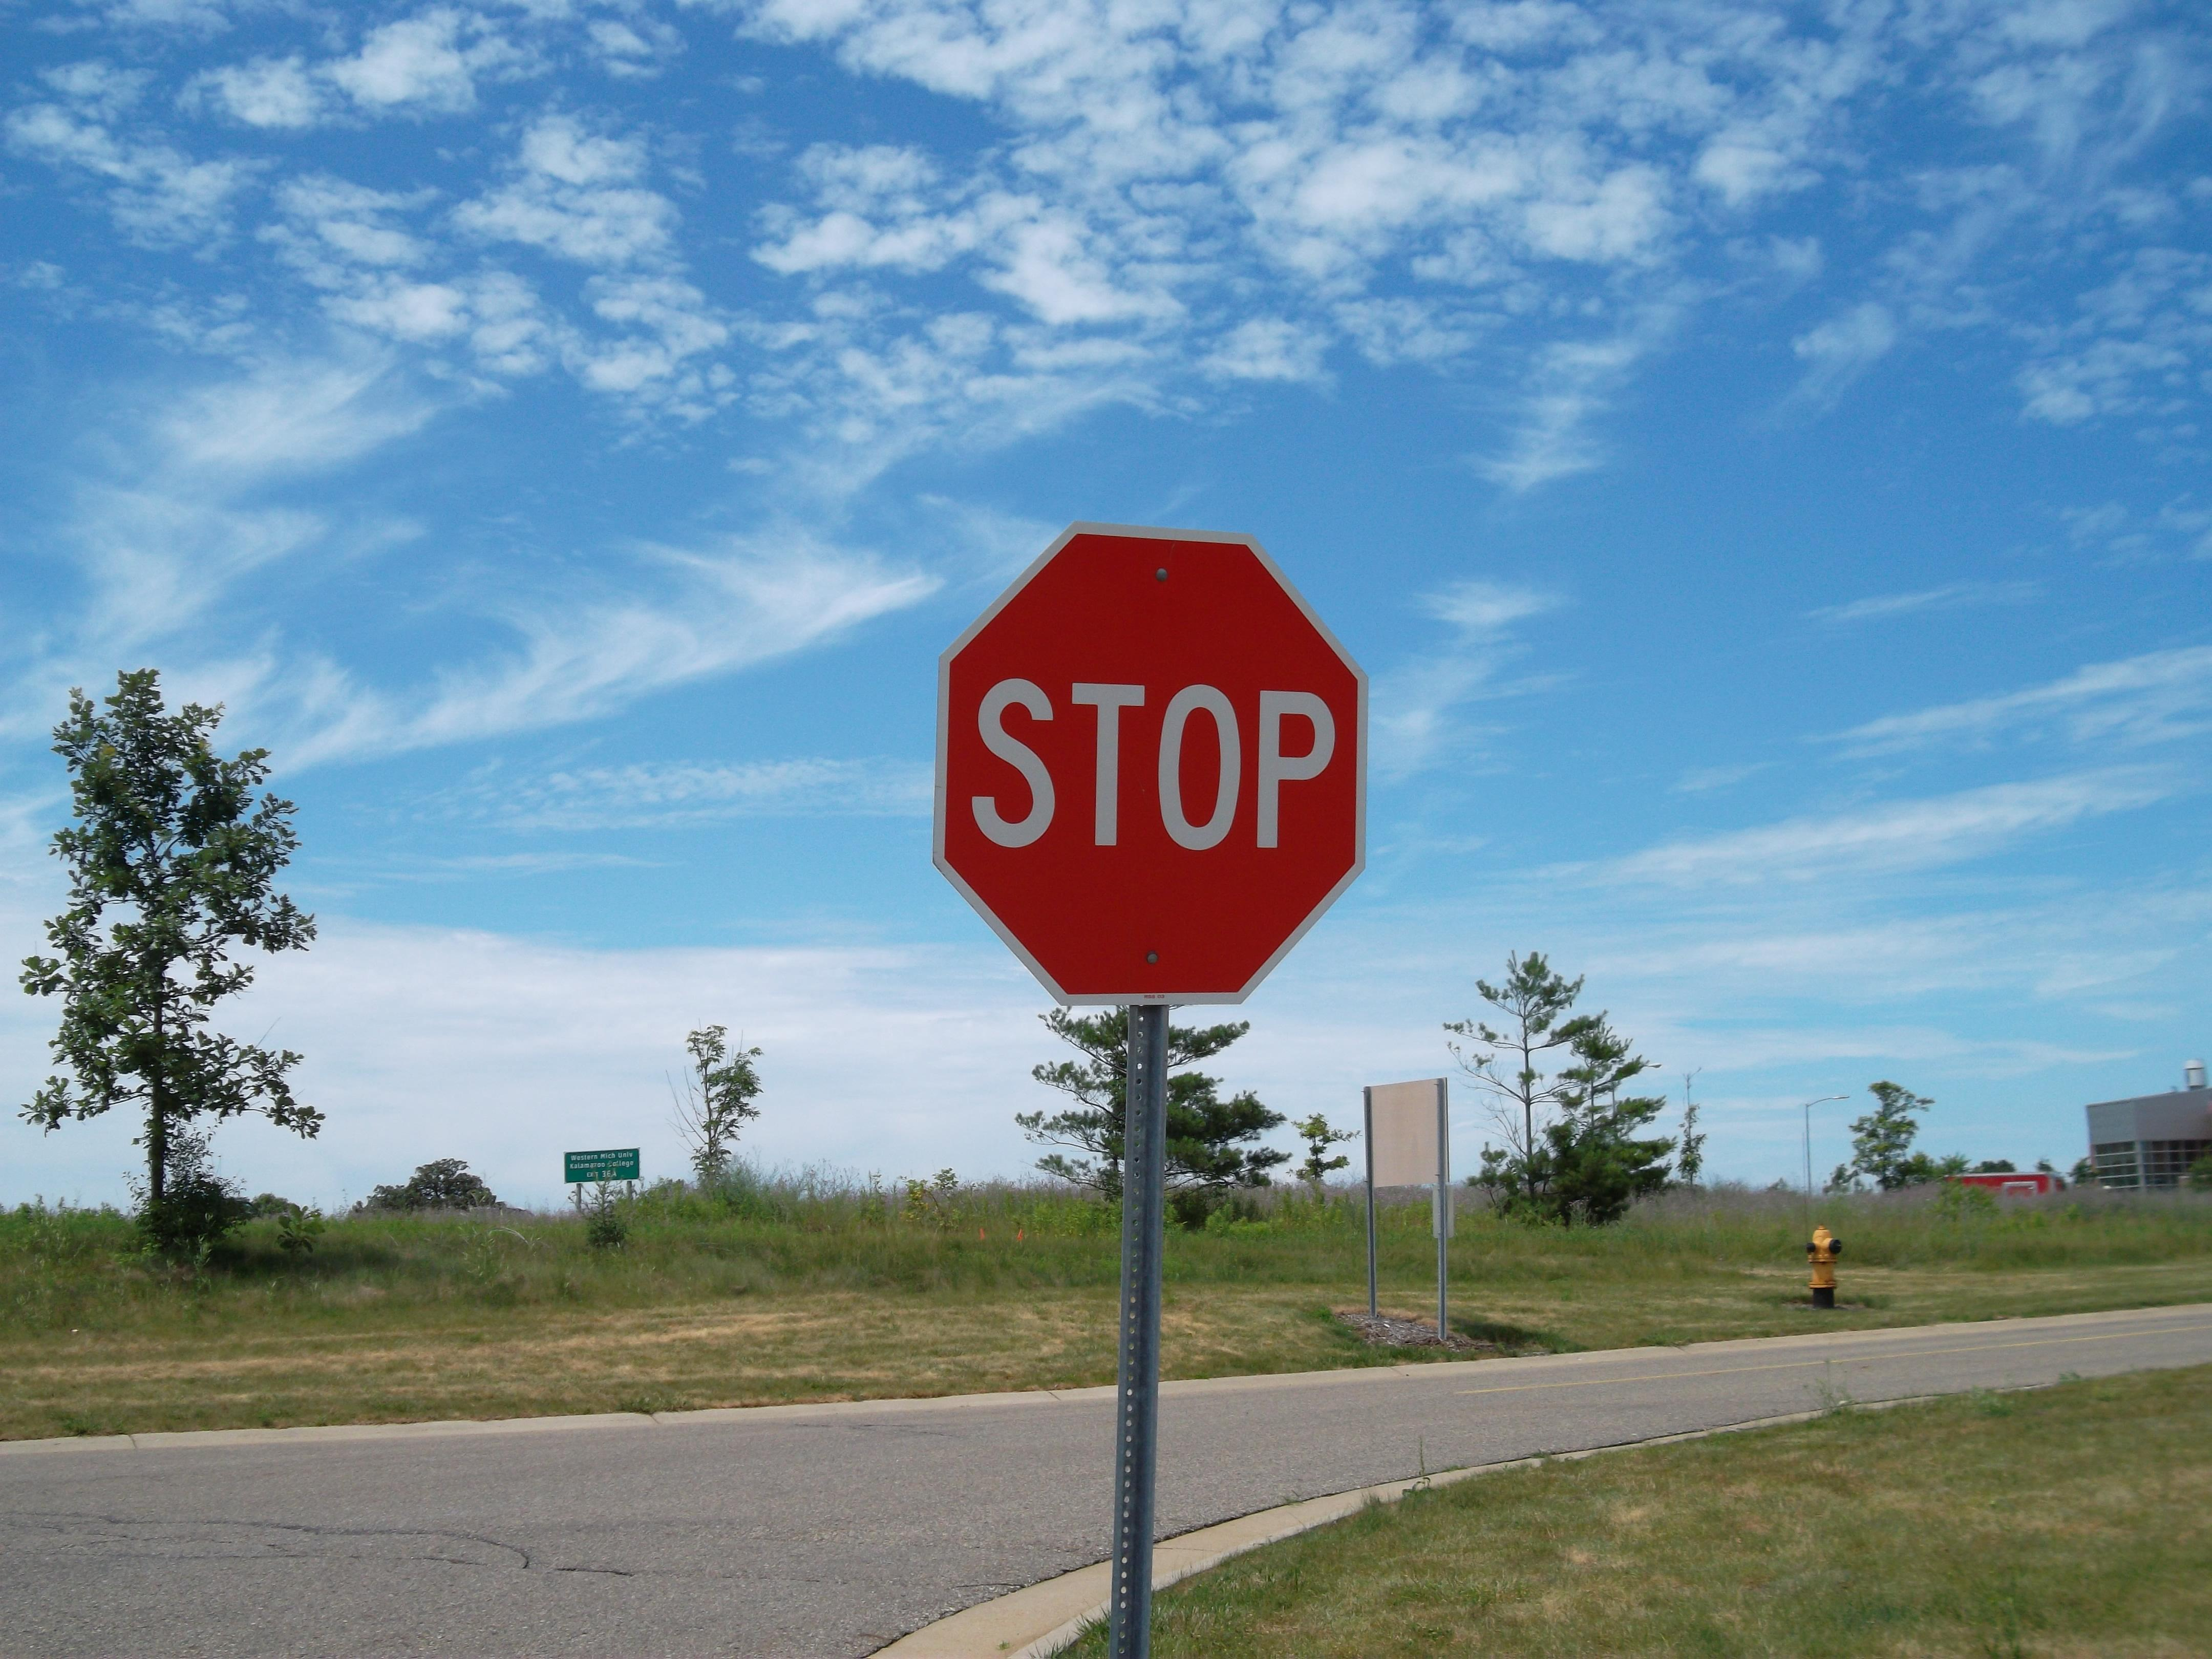stop: (923, 511, 1386, 1016)
